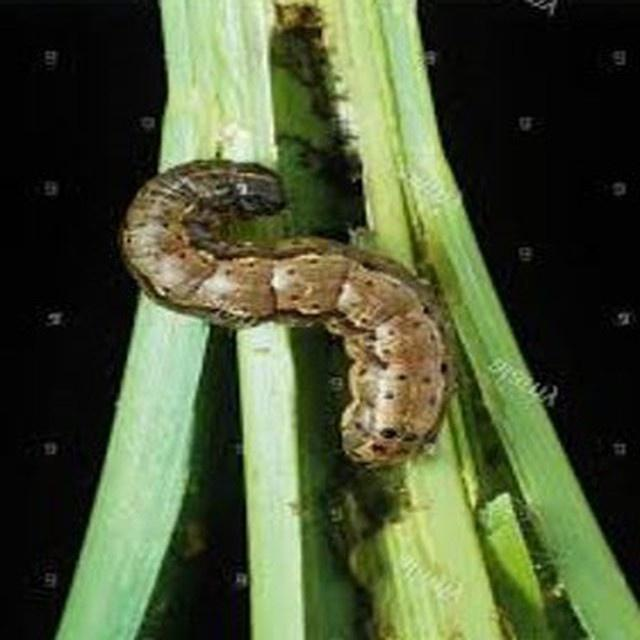gusano_cogollero: (121, 155, 452, 472)
